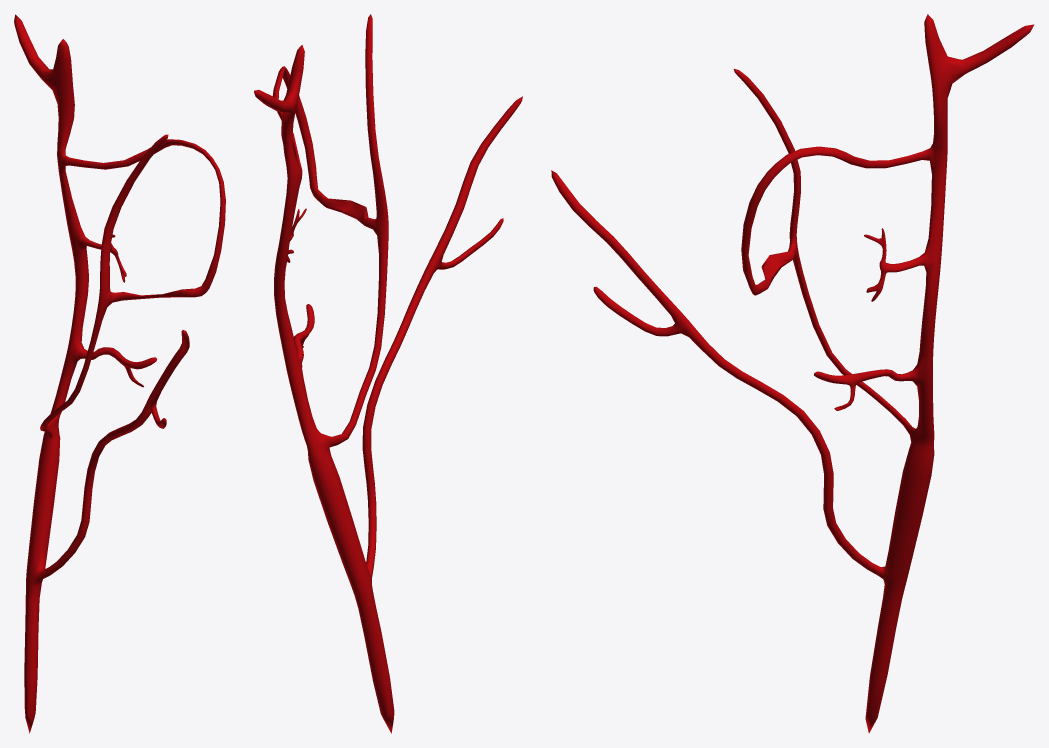
The model's file is Vasculature.glb.
3 renders of one model, left to right at view 1: azimuth 30°, elevation 25°; view 2: azimuth 150°, elevation 25°; view 3: azimuth 270°, elevation 25°, orthographic. The views are drawn at different scales.
Visible parts, largest first — view 1: Vasculature; view 2: Vasculature; view 3: Vasculature.
Part boxes in pixels (x1,y1,x2,y2): Vasculature: (14, 14, 225, 733); Vasculature: (254, 14, 522, 733); Vasculature: (551, 14, 1034, 733).
Bounding box in the file's own units: 26.14 × 110 × 63.97.
